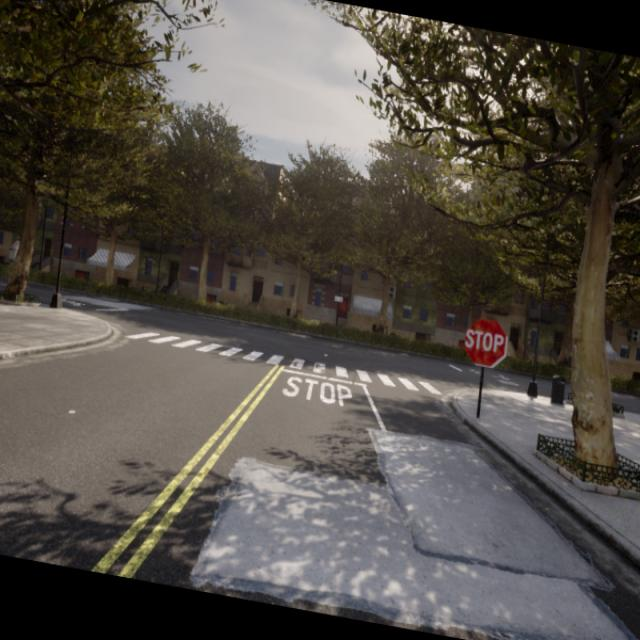stop sign: (461, 315, 509, 369)
